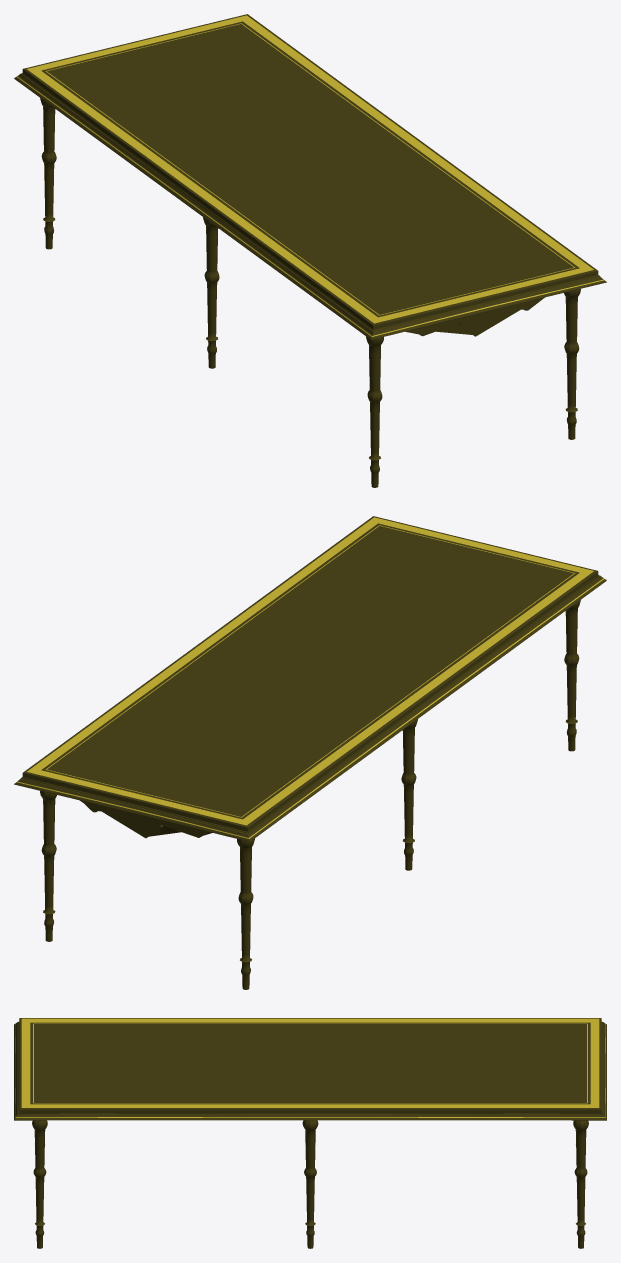
Rendered from table_3.fbx.
3 views of the same model, one above another, from view 1: azimuth 30°, elevation 25°; view 2: azimuth 150°, elevation 25°; view 3: azimuth 270°, elevation 25° (orthographic). The views are drawn at different scales.
Parts seen in each view (by area): view 1: table, legs, beam; view 2: table, legs, beam; view 3: table, legs.
Boxes of the visible parts, box(x1,y1,x2,y2) form: table: box(14, 14, 606, 339); legs: box(40, 98, 580, 487); beam: box(405, 297, 544, 336); table: box(14, 516, 606, 841); legs: box(40, 600, 580, 989); beam: box(80, 800, 212, 838); table: box(14, 1018, 606, 1120); legs: box(32, 1120, 588, 1248).
Size of the model in its own units: 135 by 95.35 by 355.
